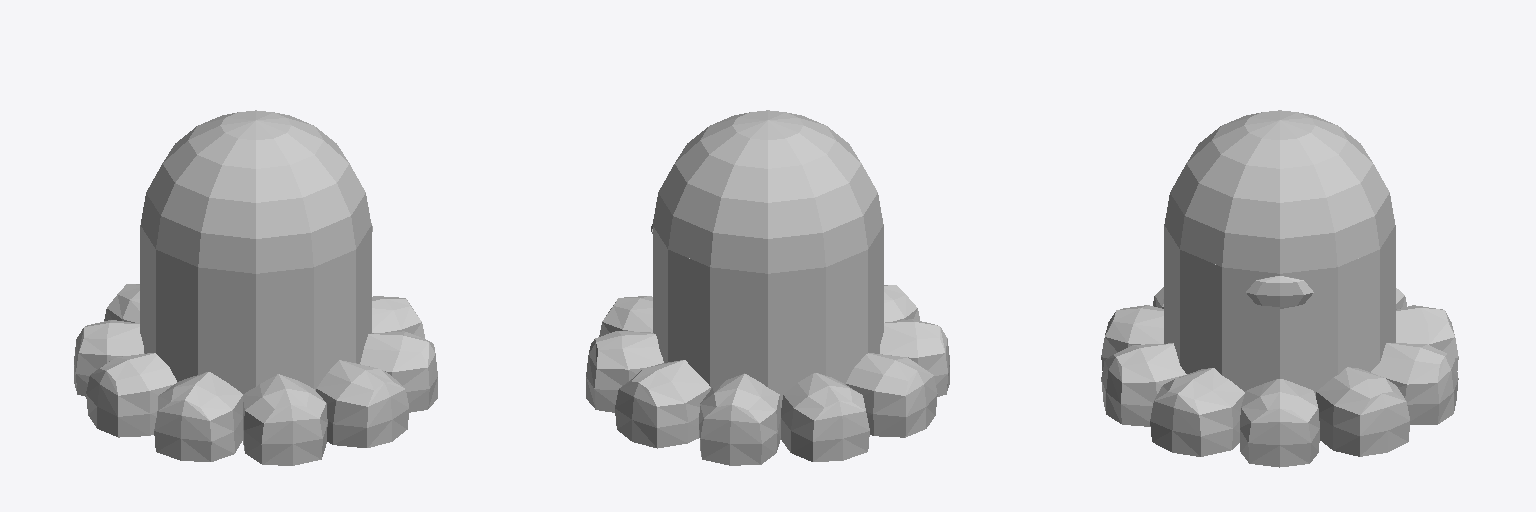
Rendered from Diglet.obj.
3 renders of one model, left to right at view 1: azimuth 30°, elevation 25°; view 2: azimuth 150°, elevation 25°; view 3: azimuth 270°, elevation 25°, orthographic.
Parts seen in each view (by area): view 1: Sphere, Cylinder.001_Cylinder, Cube.005_Cube.007, Cube.006_Cube.008, Cube.009_Cube.011, Cube_Cube.002, Cube.001_Cube.003, Cube.004_Cube.006, Cube.002_Cube.004, Cube.007_Cube.009; view 2: Sphere, Cylinder.001_Cylinder, Cube.004_Cube.006, Cube.007_Cube.009, Cube.008_Cube.010, Cube_Cube.002, Cube.003_Cube.005, Cube.005_Cube.007, Cube.002_Cube.004, Cube.006_Cube.008; view 3: Sphere, Cylinder.001_Cylinder, Cube.003_Cube.005, Cube.001_Cube.003, Cube.002_Cube.004, Cube.008_Cube.010, Cube.009_Cube.011, Cube.006_Cube.008, Cube.007_Cube.009, Sphere.001_Sphere.004.
Part boxes in pixels (x1,y1,x2,y2): Sphere: (141,110,370,273); Cylinder.001_Cylinder: (140,225,371,393); Cube.005_Cube.007: (154,372,242,461); Cube.006_Cube.008: (243,374,327,465); Cube.009_Cube.011: (316,360,409,447); Cube_Cube.002: (86,353,176,437); Cube.001_Cube.003: (360,331,437,412); Cube.004_Cube.006: (74,320,144,396); Cube.002_Cube.004: (372,296,424,338); Cube.007_Cube.009: (104,284,139,323); Sphere: (653,110,883,273); Cylinder.001_Cylinder: (653,225,883,407); Cube.004_Cube.006: (781,373,869,461); Cube.007_Cube.009: (699,373,780,465); Cube.008_Cube.010: (615,360,710,448); Cube_Cube.002: (846,353,937,437); Cube.003_Cube.005: (586,331,663,412); Cube.005_Cube.007: (880,319,949,396); Cube.002_Cube.004: (599,296,652,336); Cube.006_Cube.008: (884,285,919,322); Sphere: (1164,110,1394,273); Cylinder.001_Cylinder: (1164,225,1395,395); Cube.003_Cube.005: (1316,367,1409,456); Cube.001_Cube.003: (1150,368,1244,456); Cube.002_Cube.004: (1240,379,1319,467); Cube.008_Cube.010: (1371,343,1458,424); Cube.009_Cube.011: (1101,343,1186,426); Cube.006_Cube.008: (1101,305,1163,370); Cube.007_Cube.009: (1396,305,1458,370); Sphere.001_Sphere.004: (1246,276,1313,308).
Size of the model in its own units: 3.01 by 2.46 by 2.94.